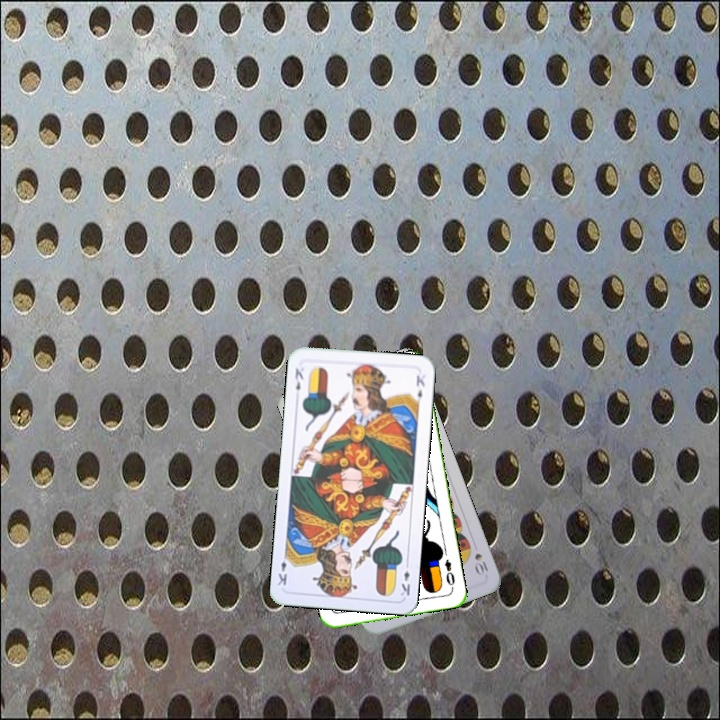EK: (397, 558, 413, 598), (291, 364, 306, 393)
EO: (440, 556, 457, 592)
S10: (470, 549, 491, 579)
